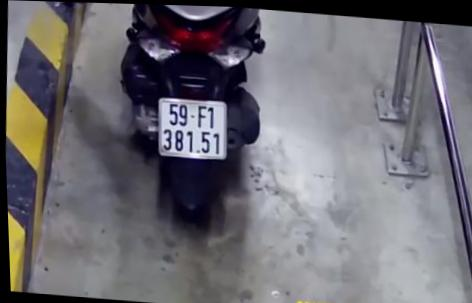LP: (153, 95, 229, 160)
